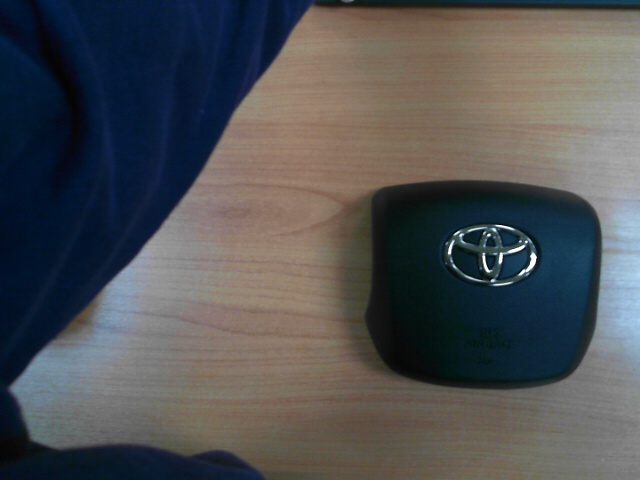AirbagV2: (366, 179, 602, 389)
